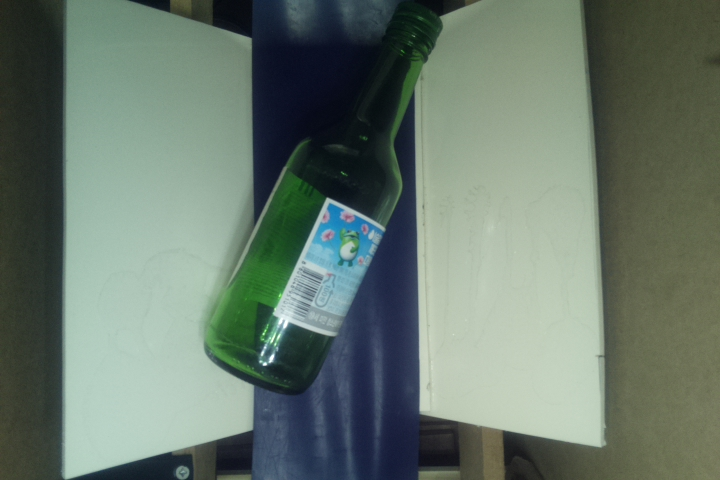soju: (200, 1, 449, 397)
